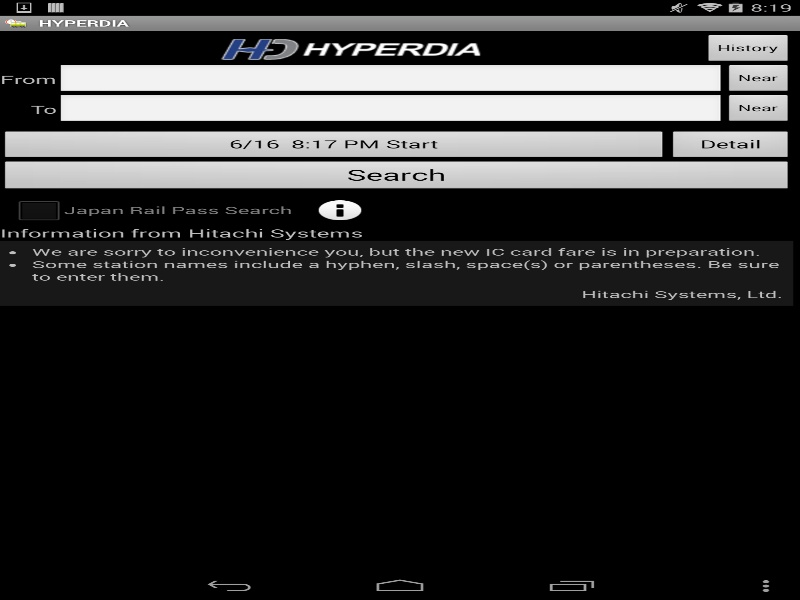Button: (0, 160, 793, 192), (0, 130, 668, 160), (668, 130, 793, 160), (703, 34, 793, 64), (724, 64, 793, 94), (724, 94, 793, 124)
Input: (57, 64, 724, 94), (57, 94, 724, 124)
